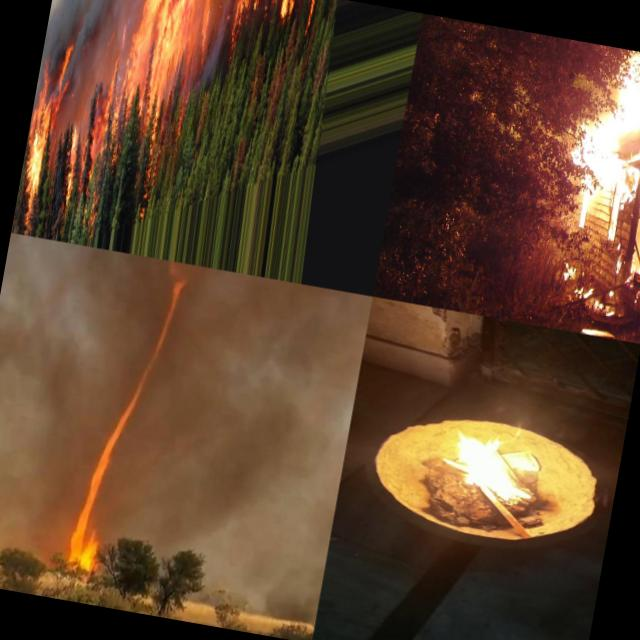fire: (558, 44, 640, 292), (114, 0, 219, 124), (59, 61, 122, 206), (446, 427, 542, 509), (17, 58, 66, 206), (550, 276, 632, 324), (59, 522, 104, 572), (74, 470, 110, 528), (93, 419, 128, 476), (161, 260, 192, 312), (118, 380, 150, 426), (136, 340, 164, 384), (154, 308, 176, 347), (269, 0, 299, 21), (234, 0, 261, 21)
smoke: (143, 266, 371, 575), (0, 232, 132, 483), (0, 463, 73, 555), (112, 253, 168, 369), (107, 426, 162, 544), (42, 0, 131, 67), (256, 568, 322, 622), (201, 0, 237, 88)
